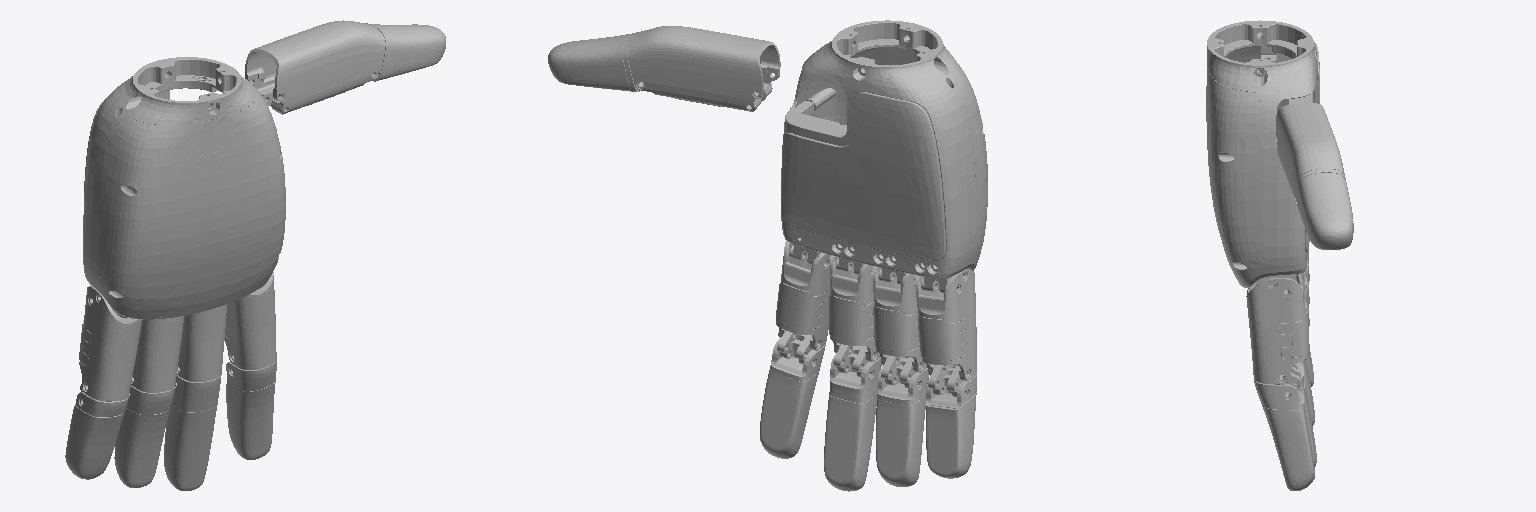
robot.urdf — fourier_right_hand_12dof:
<?xml version="1.0" encoding="utf-8"?>

<!-- 10162024-alpha-1 -->

<robot
  name="fourier_right_hand_12dof">
  <link
    name="R_hand_base_link">
    <inertial>
      <origin
        xyz="-0.0031 0.00970 -0.0440"
        rpy="0 0 0" />
      <mass
        value="0.281" />
      <inertia
        ixx="0.000343"
        ixy="2.91E-06"
        ixz="9.85E-06"
        iyy="0.000474"
        iyz="1.066E-5"
        izz="0.000217" />
    </inertial>
    <visual>
      <origin
        xyz="0 0 0"
        rpy="0 0 0" />
      <geometry>
        <mesh
          filename="../meshes/fourier_hand_12dof/R_hand_base_link.STL" />
      </geometry>
      <material
        name="">
        <color
          rgba="0.75294 0.75294 0.75294 1" />
      </material>
    </visual>
    <collision>
      <origin
        xyz="0 0 0"
        rpy="0 0 0" />
      <geometry>
        <mesh
          filename="../meshes/fourier_hand_12dof/R_hand_base_link.STL" />
      </geometry>
    </collision>
  </link>
  <link
    name="R_thumb_proximal_yaw_link">
    <inertial>
      <origin
        xyz="0.010856 -0.001425 -0.000443"
        rpy="0 0 0" />
      <mass
        value="0.04" />
      <inertia
        ixx="4.48E-6"
        ixy="7E-7"
        ixz="7.4E-7"
        iyy="7.55E-6"
        iyz="-6E-8"
        izz="6.88E-06" />
    </inertial>
    <visual>
      <origin
        xyz="0 0 0"
        rpy="0 0 0" />
      <geometry>
        <mesh
          filename="../meshes/fourier_hand_12dof/R_thumb_proximal_yaw_link.STL" />
      </geometry>
      <material
        name="">
        <color
          rgba="0.86667 0.86667 0.8902 1" />
      </material>
    </visual>
    <collision>
      <origin
        xyz="0 0 0"
        rpy="0 0 0" />
      <geometry>
        <mesh
          filename="../meshes/fourier_hand_12dof/R_thumb_proximal_yaw_link.STL" />
      </geometry>
    </collision>
  </link>
  <joint
    name="R_thumb_proximal_yaw_joint"
    type="revolute">
    <origin
      xyz="0.014 0.012 -0.023196"
      rpy="3.1416 0 0" />
    <parent
      link="R_hand_base_link" />
    <child
      link="R_thumb_proximal_yaw_link" />
    <axis
      xyz="0 0 1" />
    <limit
      lower="-1.4661"
      upper="0"
      effort="0"
      velocity="0" />
  </joint>
  <link
    name="R_thumb_proximal_pitch_link">
    <inertial>
      <origin
        xyz="0.026421 -0.001244 3.22E-06"
        rpy="0 0 0" />
      <mass
        value="0.0415" />
      <inertia
        ixx="5.78E-06"
        ixy="4.3E-7"
        ixz="0"
        iyy="1.328E-05"
        iyz="0"
        izz="1.39E-05" />
    </inertial>
    <visual>
      <origin
        xyz="0 0 0"
        rpy="0 0 0" />
      <geometry>
        <mesh
          filename="../meshes/fourier_hand_12dof/R_thumb_proximal_pitch_link.STL" />
      </geometry>
      <material
        name="">
        <color
          rgba="0.75294 0.75294 0.75294 1" />
      </material>
    </visual>
    <collision>
      <origin
        xyz="0 0 0"
        rpy="0 0 0" />
      <geometry>
        <mesh
          filename="../meshes/fourier_hand_12dof/R_thumb_proximal_pitch_link.STL" />
      </geometry>
    </collision>
  </link>
  <joint
    name="R_thumb_proximal_pitch_joint"
    type="revolute">
    <origin
      xyz="0.034322 -0.0054361 -0.001"
      rpy="1.5708 0 -0.15708" />
    <parent
      link="R_thumb_proximal_yaw_link" />
    <child
      link="R_thumb_proximal_pitch_link" />
    <axis
      xyz="0 0 1" />
    <limit
      lower="0"
      upper="1.274"
      effort="0"
      velocity="0" />
  </joint>
  <link
    name="R_thumb_distal_link">
    <inertial>
      <origin
        xyz="0.01864 -0.005137 1.57E-05"
        rpy="0 0 0" />
      <mass
        value="0.0198" />
      <inertia
        ixx="1.15E-06"
        ixy="-6E-8"
        ixz="0"
        iyy="3.43E-06"
        iyz="0"
        izz="3.24E-06" />
    </inertial>
    <visual>
      <origin
        xyz="0 0 0"
        rpy="0 0 0" />
      <geometry>
        <mesh
          filename="../meshes/fourier_hand_12dof/R_thumb_distal_link.STL" />
      </geometry>
      <material
        name="">
        <color
          rgba="0.75294 0.75294 0.75294 1" />
      </material>
    </visual>
    <collision>
      <origin
        xyz="0 0 0"
        rpy="0 0 0" />
      <geometry>
        <mesh
          filename="../meshes/fourier_hand_12dof/R_thumb_distal_link.STL" />
      </geometry>
    </collision>
  </link>
  <joint
    name="R_thumb_distal_joint"
    type="revolute">
    <origin
      xyz="0.05175 0.0050976 0"
      rpy="0 0 0.071635" />
    <parent
      link="R_thumb_proximal_pitch_link" />
    <child
      link="R_thumb_distal_link" />
    <axis
      xyz="0 0 1" />
    <limit
      lower="0"
      upper="1.3614"
      effort="0"
      velocity="0" />
  </joint>

  <link name="R_thumb_tip_link">
    <visual>
      <origin
        xyz="0 0 0"
        rpy="0 0 0" />
      <geometry>
        <sphere radius="0.005" />
      </geometry>
      <material name="yellow">
        <color rgba="0.9 1 0 1" />
      </material>
    </visual>
  </link>
  <joint name="R_thumb_tip_joint" type="fixed">
    <parent link="R_thumb_distal_link" />
    <child link="R_thumb_tip_link" />
    <origin rpy="0 0 0" xyz="0.035 -0.001 0" />
  </joint>


  <link
    name="R_index_metacarpal_link">
    <inertial>
      <origin
        xyz="-0.00913 0.003944 0"
        rpy="0 0 0" />
      <mass
        value="0.0321" />
      <inertia
        ixx="1.09E-06"
        ixy="1.85E-06"
        ixz="0"
        iyy="7.7E-06"
        iyz="0"
        izz="7.94E-06" />
    </inertial>
    <visual>
      <origin
        xyz="0 0 0"
        rpy="0 0 0" />
      <geometry>
        <mesh
          filename="../meshes/fourier_hand_12dof/R_index_metacarpal_link.STL" />
      </geometry>
      <material
        name="">
        <color
          rgba="0.75294 0.75294 0.75294 1" />
      </material>
    </visual>
    <collision>
      <origin
        xyz="0 0 0"
        rpy="0 0 0" />
      <geometry>
        <mesh
          filename="../meshes/fourier_hand_12dof/R_index_metacarpal_link.STL" />
      </geometry>
    </collision>
  </link>
  <joint
    name="R_index_metacarpal_joint"
    type="revolute">
    <origin
      xyz="0.0305 0.0118 -0.088496"
      rpy="-3.1416 1.4588 0" />
    <parent
      link="R_hand_base_link" />
    <child
      link="R_index_metacarpal_link" />
    <axis
      xyz="0 1 0" />
    <limit
      lower="-0.0524"
      upper="0.2618"
      effort="0"
      velocity="0" />
  </joint>
  <link
    name="R_index_proximal_link">
    <inertial>
      <origin
        xyz="0.017361 0.0045 0"
        rpy="0 0 0" />
      <mass
        value="0.0358" />
      <inertia
        ixx="3.91E-06"
        ixy="-2.7E-7"
        ixz="0"
        iyy="7.43E-06"
        iyz="0"
        izz="7.77E-06" />
    </inertial>
    <visual>
      <origin
        xyz="0 0 0"
        rpy="0 0 0" />
      <geometry>
        <mesh
          filename="../meshes/fourier_hand_12dof/R_index_proximal_link.STL" />
      </geometry>
      <material
        name="">
        <color
          rgba="0.75294 0.75294 0.75294 1" />
      </material>
    </visual>
    <collision>
      <origin
        xyz="0 0 0"
        rpy="0 0 0" />
      <geometry>
        <mesh
          filename="../meshes/fourier_hand_12dof/R_index_proximal_link.STL" />
      </geometry>
    </collision>
  </link>
  <joint
    name="R_index_proximal_joint"
    type="revolute">
    <origin
      xyz="0.012 0.0005 0"
      rpy="0 0 0" />
    <parent
      link="R_index_metacarpal_link" />
    <child
      link="R_index_proximal_link" />
    <axis
      xyz="0 0 1" />
    <limit
      lower="-1.5185"
      upper="0"
      effort="0"
      velocity="0" />
  </joint>
  <link
    name="R_index_intermediate_link">
    <inertial>
      <origin
        xyz="0.0224 0.002908 1.624E-5"
        rpy="0 0 0" />
      <mass
        value="0.0199" />
      <inertia
        ixx="8.4E-7"
        ixy="4E-8"
        ixz="1E-8"
        iyy="4.82E-6"
        iyz="0"
        izz="4.72E-6" />
    </inertial>
    <visual>
      <origin
        xyz="0 0 0"
        rpy="0 0 0" />
      <geometry>
        <mesh
          filename="../meshes/fourier_hand_12dof/R_index_intermediate_link.STL" />
      </geometry>
      <material
        name="">
        <color
          rgba="0.75294 0.75294 0.75294 1" />
      </material>
    </visual>
    <collision>
      <origin
        xyz="0 0 0"
        rpy="0 0 0" />
      <geometry>
        <mesh
          filename="../meshes/fourier_hand_12dof/R_index_intermediate_link.STL" />
      </geometry>
    </collision>
  </link>
  <joint
    name="R_index_intermediate_joint"
    type="revolute">
    <origin
      xyz="0.038948 0.0020202 0"
      rpy="0 0 -0.19585" />
    <parent
      link="R_index_proximal_link" />
    <child
      link="R_index_intermediate_link" />
    <axis
      xyz="0 0 1" />
    <limit
      lower="-1.5708"
      upper="0"
      effort="0"
      velocity="0" />
  </joint>

  <link name="R_index_tip_link">
    <visual>
      <origin
        xyz="0 0 0"
        rpy="0 0 0" />
      <geometry>
        <sphere radius="0.005" />
      </geometry>
      <material name="yellow">
        <color rgba="0.9 1 0 1" />
      </material>
    </visual>
  </link>
  <joint name="R_index_tip_joint" type="fixed">
    <parent link="R_index_intermediate_link" />
    <child link="R_index_tip_link" />
    <origin rpy="0 0 0" xyz="0.047 0.001 0" />
  </joint>


  <link
    name="R_middle_proximal_link">
    <inertial>
      <origin
        xyz="0.017361 0.0045 0"
        rpy="0 0 0" />
      <mass
        value="0.0358" />
      <inertia
        ixx="3.91E-06"
        ixy="-2.7E-7"
        ixz="0"
        iyy="7.43E-06"
        iyz="0"
        izz="7.77E-06" />
    </inertial>
    <visual>
      <origin
        xyz="0 0 0"
        rpy="0 0 0" />
      <geometry>
        <mesh
          filename="../meshes/fourier_hand_12dof/R_middle_proximal_link.STL" />
      </geometry>
      <material
        name="">
        <color
          rgba="0.75294 0.75294 0.75294 1" />
      </material>
    </visual>
    <collision>
      <origin
        xyz="0 0 0"
        rpy="0 0 0" />
      <geometry>
        <mesh
          filename="../meshes/fourier_hand_12dof/R_middle_proximal_link.STL" />
      </geometry>
    </collision>
  </link>
  <joint
    name="R_middle_proximal_joint"
    type="revolute">
    <origin
      xyz="0.0095 0.0113 -0.10005"
      rpy="3.1416 1.5708 0" />
    <parent
      link="R_hand_base_link" />
    <child
      link="R_middle_proximal_link" />
    <axis
      xyz="0 0 1" />
    <limit
      lower="-1.5185"
      upper="0"
      effort="0"
      velocity="0" />
  </joint>
  <link
    name="R_middle_intermediate_link">
    <inertial>
      <origin
        xyz="0.02470 0.003230 -1.394E-5"
        rpy="0 0 0" />
      <mass
        value="0.0234" />
      <inertia
        ixx="1.01E-6"
        ixy="-4E-8"
        ixz="1E-8"
        iyy="6.94E-6"
        iyz="0"
        izz="6.82E-6" />
    </inertial>
    <visual>
      <origin
        xyz="0 0 0"
        rpy="0 0 0" />
      <geometry>
        <mesh
          filename="../meshes/fourier_hand_12dof/R_middle_intermediate_link.STL" />
      </geometry>
      <material
        name="">
        <color
          rgba="0.75294 0.75294 0.75294 1" />
      </material>
    </visual>
    <collision>
      <origin
        xyz="0 0 0"
        rpy="0 0 0" />
      <geometry>
        <mesh
          filename="../meshes/fourier_hand_12dof/R_middle_intermediate_link.STL" />
      </geometry>
    </collision>
  </link>
  <joint
    name="R_middle_intermediate_joint"
    type="revolute">
    <origin
      xyz="0.038948 0.0020202 0"
      rpy="0 0 -0.19218" />
    <parent
      link="R_middle_proximal_link" />
    <child
      link="R_middle_intermediate_link" />
    <axis
      xyz="0 0 1" />
    <limit
      lower="-1.5708"
      upper="0"
      effort="0"
      velocity="0" />
  </joint>

  <link name="R_middle_tip_link">
    <visual>
      <origin
        xyz="0 0 0"
        rpy="0 0 0" />
      <geometry>
        <sphere radius="0.005" />
      </geometry>
      <material name="yellow">
        <color rgba="0.9 1 0 1" />
      </material>
    </visual>
  </link>
  <joint name="R_middle_tip_joint" type="fixed">
    <parent link="R_middle_intermediate_link" />
    <child link="R_middle_tip_link" />
    <origin rpy="0 0 0" xyz="0.055 0.0012 0" />
  </joint>


  <link
    name="R_ring_proximal_link">
    <inertial>
      <origin
        xyz="0.017361 0.0045 0"
        rpy="0 0 0" />
      <mass
        value="0.035778" />
      <inertia
        ixx="3.91E-06"
        ixy="-2.7E-7"
        ixz="0"
        iyy="7.43E-06"
        iyz="0"
        izz="7.77E-06" />
    </inertial>
    <visual>
      <origin
        xyz="0 0 0"
        rpy="0 0 0" />
      <geometry>
        <mesh
          filename="../meshes/fourier_hand_12dof/R_ring_proximal_link.STL" />
      </geometry>
      <material
        name="">
        <color
          rgba="0.75294 0.75294 0.75294 1" />
      </material>
    </visual>
    <collision>
      <origin
        xyz="0 0 0"
        rpy="0 0 0" />
      <geometry>
        <mesh
          filename="../meshes/fourier_hand_12dof/R_ring_proximal_link.STL" />
      </geometry>
    </collision>
  </link>
  <joint
    name="R_ring_proximal_joint"
    type="revolute">
    <origin
      xyz="-0.010987 0.0113 -0.10003"
      rpy="0 1.5184 3.1416" />
    <parent
      link="R_hand_base_link" />
    <child
      link="R_ring_proximal_link" />
    <axis
      xyz="0 0 1" />
    <limit
      lower="-1.5185"
      upper="0"
      effort="0"
      velocity="0" />
  </joint>
  <link
    name="R_ring_intermediate_link">
    <inertial>
      <origin
        xyz="0.0224 0.002908 1.624E-5"
        rpy="0 0 0" />
      <mass
        value="0.0199" />
      <inertia
        ixx="8.4E-7"
        ixy="4E-8"
        ixz="1E-8"
        iyy="4.82E-6"
        iyz="0"
        izz="4.72E-6" />
    </inertial>
    <visual>
      <origin
        xyz="0 0 0"
        rpy="0 0 0" />
      <geometry>
        <mesh
          filename="../meshes/fourier_hand_12dof/R_ring_intermediate_link.STL" />
      </geometry>
      <material
        name="">
        <color
          rgba="0.75294 0.75294 0.75294 1" />
      </material>
    </visual>
    <collision>
      <origin
        xyz="0 0 0"
        rpy="0 0 0" />
      <geometry>
        <mesh
          filename="../meshes/fourier_hand_12dof/R_ring_intermediate_link.STL" />
      </geometry>
    </collision>
  </link>
  <joint
    name="R_ring_intermediate_joint"
    type="revolute">
    <origin
      xyz="0.038948 0.0020202 0"
      rpy="0 0 -0.19585" />
    <parent
      link="R_ring_proximal_link" />
    <child
      link="R_ring_intermediate_link" />
    <axis
      xyz="0 0 1" />
    <limit
      lower="-1.5708"
      upper="0"
      effort="0"
      velocity="0" />
  </joint>

  <link name="R_ring_tip_link">
    <visual>
      <origin
        xyz="0 0 0"
        rpy="0 0 0" />
      <geometry>
        <sphere radius="0.005" />
      </geometry>
      <material name="green">
        <color rgba="0.9 1 0 1" />
      </material>
    </visual>
  </link>
  <joint name="R_ring_tip_joint" type="fixed">
    <parent link="R_ring_intermediate_link" />
    <child link="R_ring_tip_link" />
    <origin rpy="0 0 0" xyz="0.045 0.001 0" />
  </joint>


  <link
    name="R_pinky_proximal_link">
    <inertial>
      <origin
        xyz="0.017361 0.0045 0"
        rpy="0 0 0" />
      <mass
        value="0.0358" />
      <inertia
        ixx="3.91E-06"
        ixy="-2.7E-7"
        ixz="0"
        iyy="7.43E-06"
        iyz="0"
        izz="7.77E-06" />
    </inertial>
    <visual>
      <origin
        xyz="0 0 0"
        rpy="0 0 0" />
      <geometry>
        <mesh
          filename="../meshes/fourier_hand_12dof/R_pinky_proximal_link.STL" />
      </geometry>
      <material
        name="">
        <color
          rgba="0.75294 0.75294 0.75294 1" />
      </material>
    </visual>
    <collision>
      <origin
        xyz="0 0 0"
        rpy="0 0 0" />
      <geometry>
        <mesh
          filename="../meshes/fourier_hand_12dof/R_pinky_proximal_link.STL" />
      </geometry>
    </collision>
  </link>
  <joint
    name="R_pinky_proximal_joint"
    type="revolute">
    <origin
      xyz="-0.031472 0.0113 -0.099245"
      rpy="0 1.4661 3.1416" />
    <parent
      link="R_hand_base_link" />
    <child
      link="R_pinky_proximal_link" />
    <axis
      xyz="0 0 1" />
    <limit
      lower="-1.5185"
      upper="0"
      effort="0"
      velocity="0" />
  </joint>
  <link
    name="R_pinky_intermediate_link">
    <inertial>
      <origin
        xyz="0.01875 0.00296 5.23E-6"
        rpy="0 0 0" />
      <mass
        value="0.00812" />
      <inertia
        ixx="6.7E-7"
        ixy="5E-8"
        ixz="1E-8"
        iyy="2.69E-06"
        iyz="0"
        izz="2.6E-06" />
    </inertial>
    <visual>
      <origin
        xyz="0 0 0"
        rpy="0 0 0" />
      <geometry>
        <mesh
          filename="../meshes/fourier_hand_12dof/R_pinky_intermediate_link.STL" />
      </geometry>
      <material
        name="">
        <color
          rgba="0.75294 0.75294 0.75294 1" />
      </material>
    </visual>
    <collision>
      <origin
        xyz="0 0 0"
        rpy="0 0 0" />
      <geometry>
        <mesh
          filename="../meshes/fourier_hand_12dof/R_pinky_intermediate_link.STL" />
      </geometry>
    </collision>
  </link>
  <joint
    name="R_pinky_intermediate_joint"
    type="revolute">
    <origin
      xyz="0.038948 0.0020202 0"
      rpy="0 -0.0013299 -0.20067" />
    <parent
      link="R_pinky_proximal_link" />
    <child
      link="R_pinky_intermediate_link" />
    <axis
      xyz="0 0 1" />
    <limit
      lower="-1.5708"
      upper="0"
      effort="0"
      velocity="0" />
  </joint>

  <link name="R_pinky_tip_link">
    <visual>
      <origin
        xyz="0 0 0"
        rpy="0 0 0" />
      <geometry>
        <sphere radius="0.005" />
      </geometry>
      <material name="yellow">
        <color rgba="0.9 1 0 1" />
      </material>
    </visual>
  </link>
  <joint name="R_pinky_tip_joint" type="fixed">
    <parent link="R_pinky_intermediate_link" />
    <child link="R_pinky_tip_link" />
    <origin rpy="0 0 0" xyz="0.038 0.001 0" />
  </joint>


</robot>

--- What the picture shows (computed from the rendered views, not written in the file) ---
Views: 3 orthographic renders of the robot side by side, from view 1: azimuth 30°, elevation 25°; view 2: azimuth 150°, elevation 25°; view 3: azimuth 270°, elevation 25°.
Model fourier_right_hand_12dof with 18 links and 17 joints (12 revolute, 5 fixed), rooted at R_hand_base_link, posed all joints at 0.
Visible links, largest first — view 1: R_hand_base_link, R_thumb_proximal_pitch_link, R_pinky_proximal_link, R_middle_intermediate_link, R_ring_intermediate_link, R_index_intermediate_link, R_pinky_intermediate_link, R_index_proximal_link, R_ring_proximal_link, R_middle_proximal_link, R_thumb_distal_link; view 2: R_hand_base_link, R_thumb_proximal_pitch_link, R_middle_intermediate_link, R_ring_intermediate_link, R_index_intermediate_link, R_pinky_proximal_link, R_pinky_intermediate_link, R_index_proximal_link, R_thumb_distal_link, R_ring_proximal_link, R_middle_proximal_link; view 3: R_hand_base_link, R_index_proximal_link, R_index_intermediate_link, R_thumb_proximal_pitch_link, R_thumb_distal_link.
Link boxes in pixels (x1=…): R_hand_base_link: x1=83, y1=57, x2=285, y2=319; R_thumb_proximal_pitch_link: x1=245, y1=20, x2=385, y2=114; R_pinky_proximal_link: x1=79, y1=286, x2=141, y2=401; R_middle_intermediate_link: x1=164, y1=375, x2=220, y2=490; R_ring_intermediate_link: x1=114, y1=386, x2=174, y2=487; R_index_intermediate_link: x1=226, y1=355, x2=276, y2=459; R_pinky_intermediate_link: x1=65, y1=384, x2=128, y2=479; R_index_proximal_link: x1=224, y1=272, x2=276, y2=369; R_ring_proximal_link: x1=131, y1=316, x2=183, y2=392; R_middle_proximal_link: x1=177, y1=304, x2=226, y2=381; R_thumb_distal_link: x1=367, y1=23, x2=445, y2=81; R_hand_base_link: x1=781, y1=20, x2=987, y2=292; R_thumb_proximal_pitch_link: x1=628, y1=26, x2=780, y2=111; R_middle_intermediate_link: x1=824, y1=344, x2=881, y2=491; R_ring_intermediate_link: x1=876, y1=356, x2=928, y2=486; R_index_intermediate_link: x1=760, y1=331, x2=825, y2=458; R_pinky_proximal_link: x1=915, y1=269, x2=976, y2=380; R_pinky_intermediate_link: x1=926, y1=365, x2=976, y2=478; R_index_proximal_link: x1=776, y1=240, x2=830, y2=350; R_thumb_distal_link: x1=548, y1=32, x2=643, y2=91; R_ring_proximal_link: x1=872, y1=266, x2=926, y2=372; R_middle_proximal_link: x1=829, y1=255, x2=879, y2=361; R_hand_base_link: x1=1206, y1=20, x2=1319, y2=287; R_index_proximal_link: x1=1246, y1=274, x2=1309, y2=384; R_index_intermediate_link: x1=1254, y1=367, x2=1314, y2=490; R_thumb_proximal_pitch_link: x1=1276, y1=103, x2=1344, y2=203; R_thumb_distal_link: x1=1297, y1=169, x2=1353, y2=249.
Size in the robot's own frame: 0.1911 by 0.0634 by 0.2001 metres.
Meshes: 13 distinct files referenced, 12 mesh visuals loaded (12 binary STL); not drawn: 1 (reference not matched to a file when rendering).